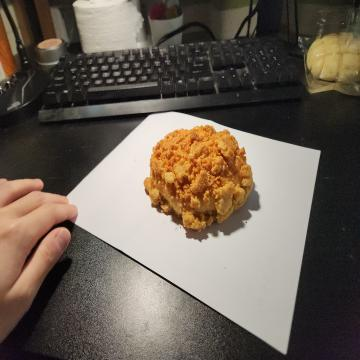soboru_bread: (146, 126, 253, 235)
